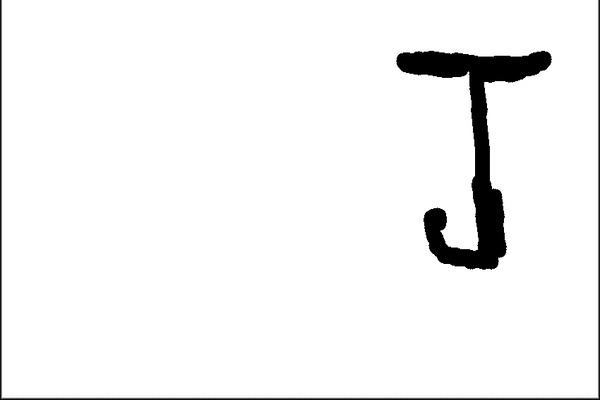J: (385, 38, 561, 272)
